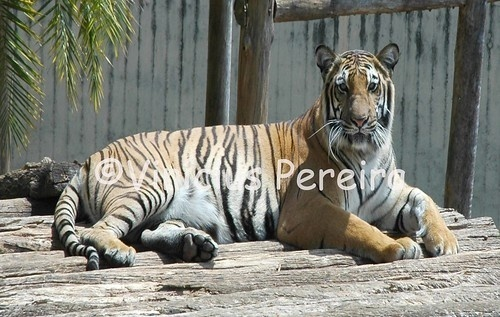tigre: (51, 38, 462, 270)
